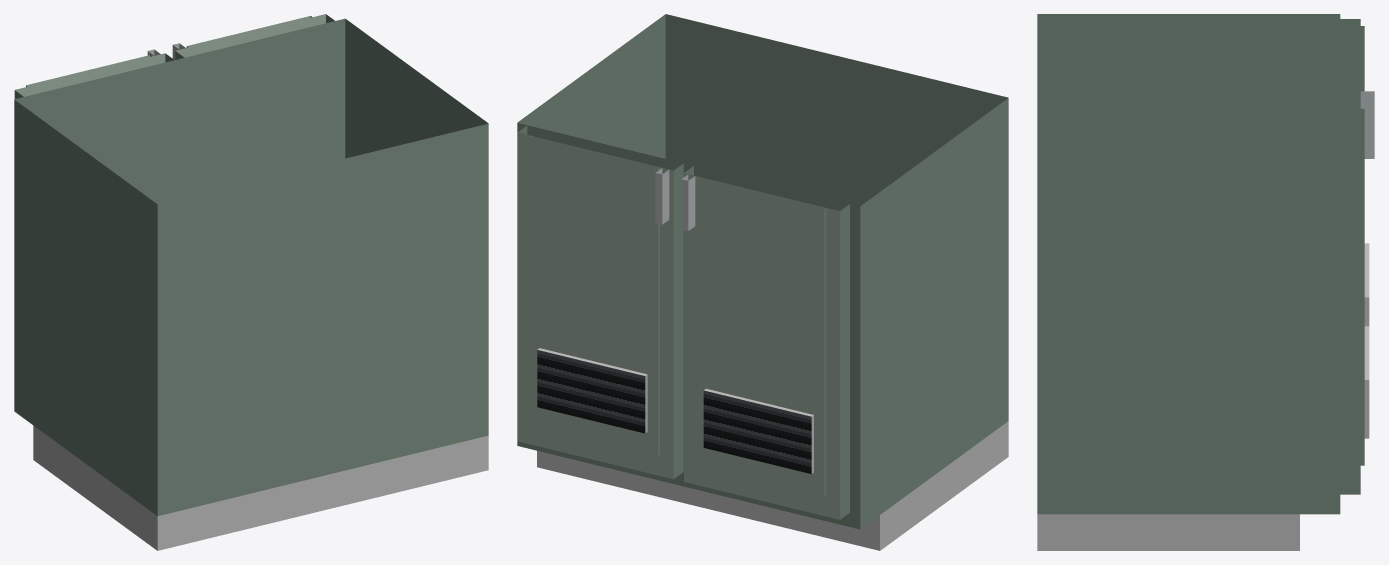
File: cabinet_plain_lower.obj
3 renders of one model, left to right at view 1: azimuth 30°, elevation 25°; view 2: azimuth 150°, elevation 25°; view 3: azimuth 270°, elevation 25°, orthographic. The views are drawn at different scales.
Parts seen in each view (by area): view 1: cabinet_plain_lower; view 2: cabinet_plain_lower; view 3: cabinet_plain_lower.
Boxes of the visible parts, x1=… form: cabinet_plain_lower: x1=14, y1=14, x2=488, y2=550; cabinet_plain_lower: x1=517, y1=14, x2=1008, y2=550; cabinet_plain_lower: x1=1037, y1=14, x2=1374, y2=550.
Size of the model in its own units: 1 by 1 by 0.835.
